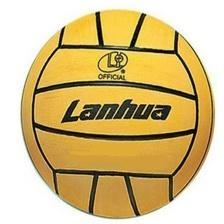Sports-Ball: (19, 4, 216, 217)
